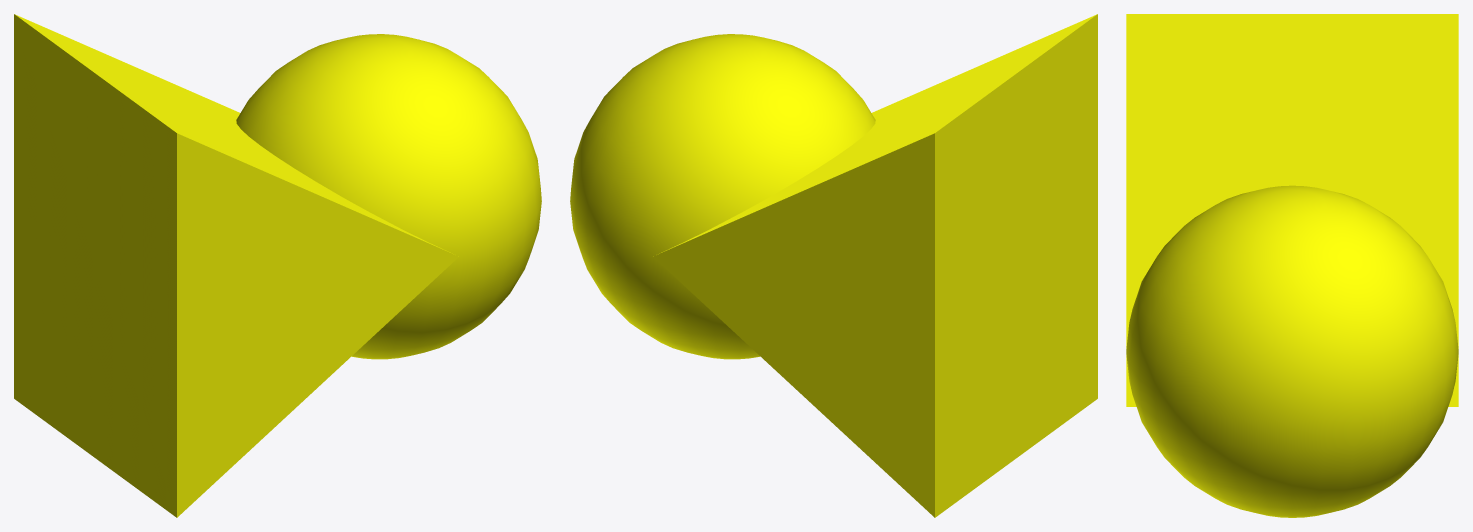
File: Pacman.glb
3 views of the same model, side by side, from view 1: azimuth 30°, elevation 25°; view 2: azimuth 150°, elevation 25°; view 3: azimuth 270°, elevation 25° (orthographic). The views are drawn at different scales.
Visible parts, largest first — view 1: Cube, Sphere; view 2: Cube, Sphere; view 3: Sphere, Cube.
Part boxes in pixels (box(x1,y1,x2,y2)): Cube: box(14, 14, 458, 517); Sphere: box(236, 34, 541, 359); Cube: box(653, 14, 1097, 517); Sphere: box(570, 34, 875, 359); Sphere: box(1126, 185, 1458, 517); Cube: box(1126, 14, 1458, 406).
Size of the model in its own units: 3.01 by 2.61 by 2.
